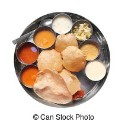poori: (37, 49, 62, 73), (63, 47, 87, 71), (57, 33, 78, 54)
